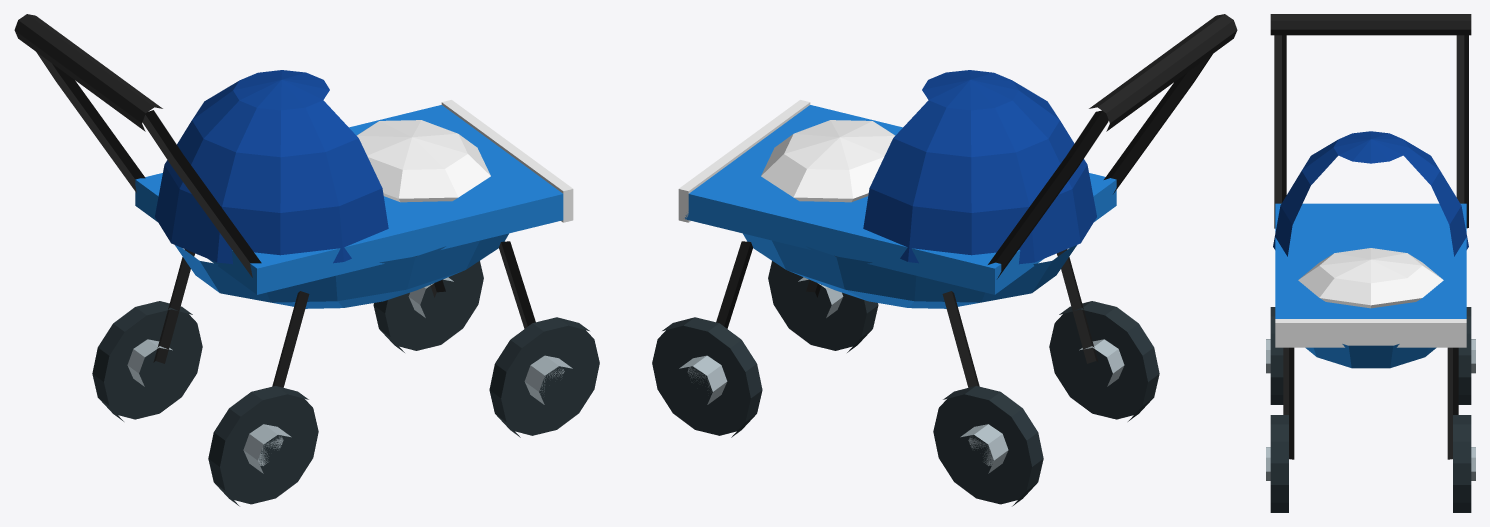
The model's file is barnvagn.glb.
3 renders of one model, left to right at view 1: azimuth 30°, elevation 25°; view 2: azimuth 150°, elevation 25°; view 3: azimuth 270°, elevation 25°, orthographic. The views are drawn at different scales.
Visible parts, largest first — view 1: barnvagn; view 2: barnvagn; view 3: barnvagn.
Part boxes in pixels (x1,y1,x2,y2): barnvagn: (14, 14, 599, 506); barnvagn: (652, 14, 1237, 506); barnvagn: (1266, 14, 1475, 512).
Bounding box in the file's own units: 0.935 × 0.8222 × 0.46.
